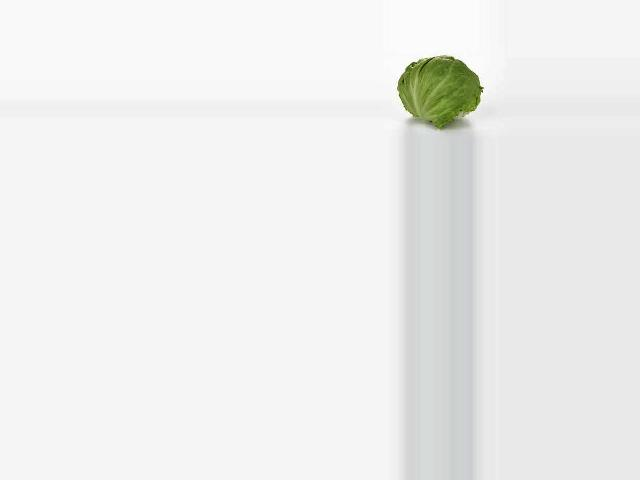lettuce: (392, 54, 485, 118)
